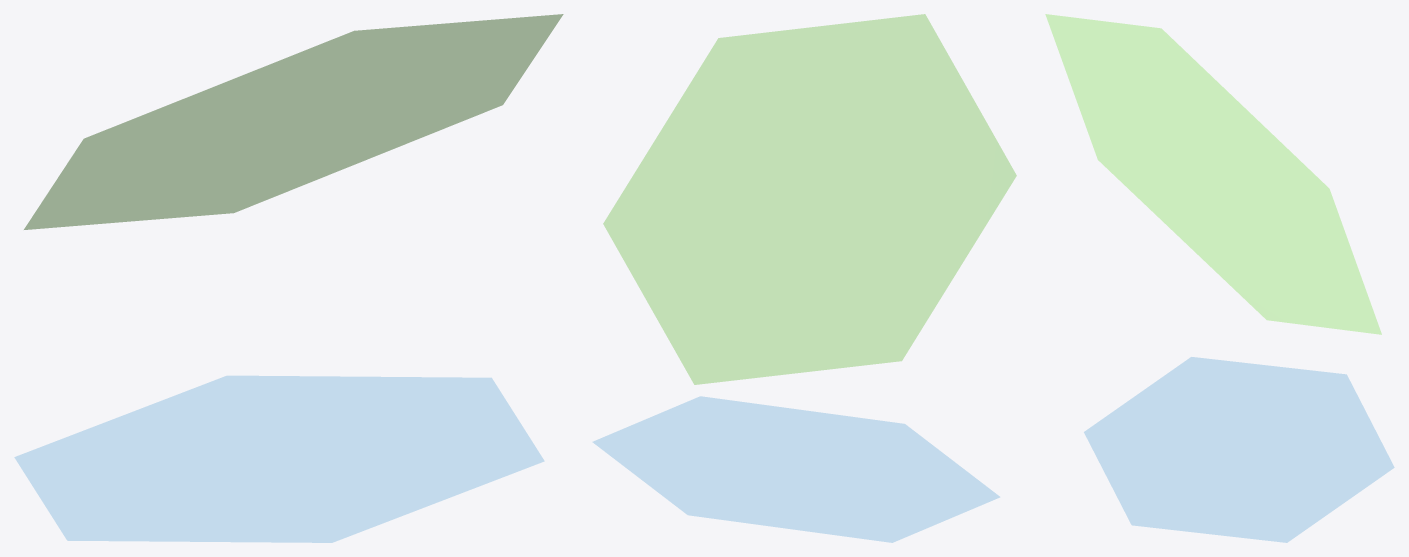
File: p_ex5a_hexagono.glb
3 renders of one model, left to right at view 1: azimuth 30°, elevation 25°; view 2: azimuth 150°, elevation 25°; view 3: azimuth 270°, elevation 25°, orthographic. The views are drawn at different scales.
Bounding box in the file's own units: 3.95 × 4.1 × 3.11.
